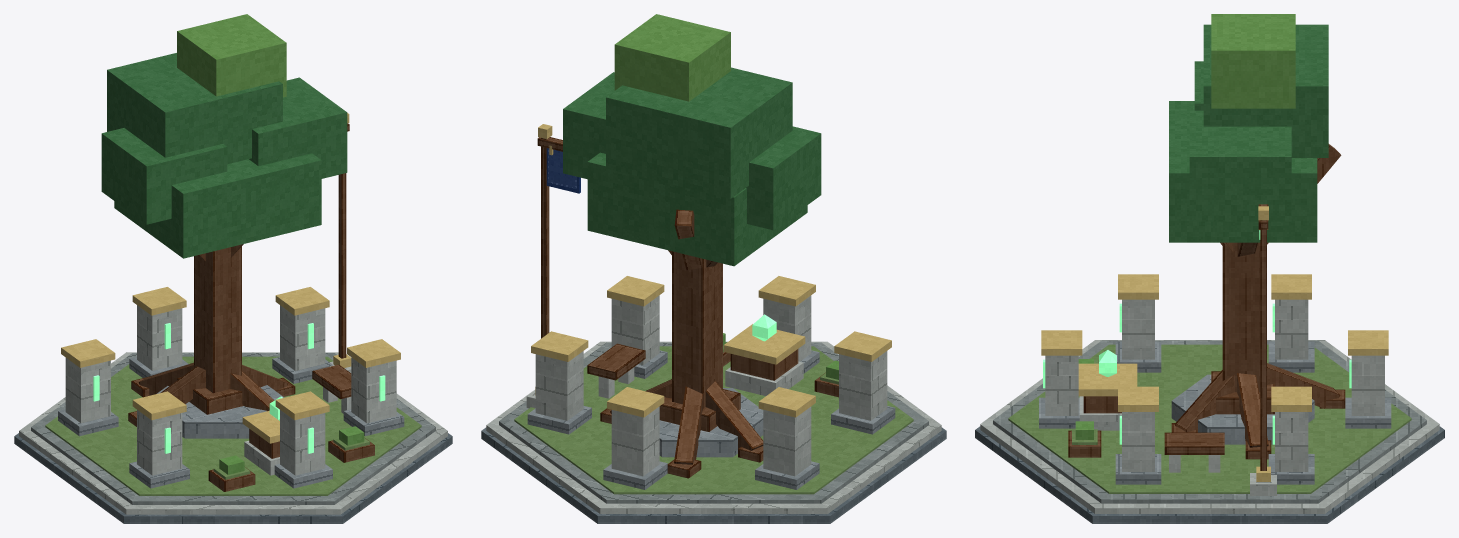
Rendered from druidic_ritual_hex_v1.glb.
3 views of the same model, side by side, from view 1: azimuth 30°, elevation 25°; view 2: azimuth 150°, elevation 25°; view 3: azimuth 270°, elevation 25° (orthographic). The views are drawn at different scales.
Parts seen in each view (by area): view 1: Druidic_Ritual_Hex_V1_Focus, Druidic_Ritual_Hex_V1_Hall, Druidic_Ritual_Hex_V1_Foundation, Druidic_Ritual_Hex_V1_Courtyard, Druidic_Ritual_Hex_V1_Roofs, Druidic_Ritual_Hex_V1_Training, Druidic_Ritual_Hex_V1_Faction; view 2: Druidic_Ritual_Hex_V1_Focus, Druidic_Ritual_Hex_V1_Hall, Druidic_Ritual_Hex_V1_Foundation, Druidic_Ritual_Hex_V1_Courtyard, Druidic_Ritual_Hex_V1_Roofs, Druidic_Ritual_Hex_V1_Training, Druidic_Ritual_Hex_V1_Faction; view 3: Druidic_Ritual_Hex_V1_Focus, Druidic_Ritual_Hex_V1_Foundation, Druidic_Ritual_Hex_V1_Hall, Druidic_Ritual_Hex_V1_Courtyard, Druidic_Ritual_Hex_V1_Roofs, Druidic_Ritual_Hex_V1_Training, Druidic_Ritual_Hex_V1_Faction.
Boxes of the visible parts, left/top/right/bottom form: Druidic_Ritual_Hex_V1_Focus: left=93, top=14, right=385, bottom=453; Druidic_Ritual_Hex_V1_Hall: left=58, top=305, right=404, bottom=488; Druidic_Ritual_Hex_V1_Foundation: left=14, top=352, right=452, bottom=523; Druidic_Ritual_Hex_V1_Courtyard: left=45, top=356, right=421, bottom=495; Druidic_Ritual_Hex_V1_Roofs: left=61, top=287, right=400, bottom=420; Druidic_Ritual_Hex_V1_Training: left=208, top=364, right=374, bottom=491; Druidic_Ritual_Hex_V1_Faction: left=329, top=113, right=351, bottom=372; Druidic_Ritual_Hex_V1_Focus: left=563, top=14, right=821, bottom=478; Druidic_Ritual_Hex_V1_Hall: left=527, top=295, right=895, bottom=489; Druidic_Ritual_Hex_V1_Foundation: left=481, top=341, right=946, bottom=523; Druidic_Ritual_Hex_V1_Courtyard: left=514, top=346, right=913, bottom=494; Druidic_Ritual_Hex_V1_Roofs: left=531, top=276, right=891, bottom=417; Druidic_Ritual_Hex_V1_Training: left=587, top=324, right=838, bottom=398; Druidic_Ritual_Hex_V1_Faction: left=526, top=124, right=580, bottom=408; Druidic_Ritual_Hex_V1_Focus: left=1043, top=14, right=1351, bottom=459; Druidic_Ritual_Hex_V1_Foundation: left=975, top=340, right=1444, bottom=523; Druidic_Ritual_Hex_V1_Hall: left=1039, top=299, right=1391, bottom=484; Druidic_Ritual_Hex_V1_Courtyard: left=1008, top=344, right=1411, bottom=493; Druidic_Ritual_Hex_V1_Roofs: left=1041, top=274, right=1388, bottom=411; Druidic_Ritual_Hex_V1_Training: left=1068, top=359, right=1224, bottom=472; Druidic_Ritual_Hex_V1_Faction: left=1250, top=204, right=1276, bottom=495.
Size of the model in its own units: 1.59 by 1.79 by 1.84.
Materials: 1 (1 with a texture image).
